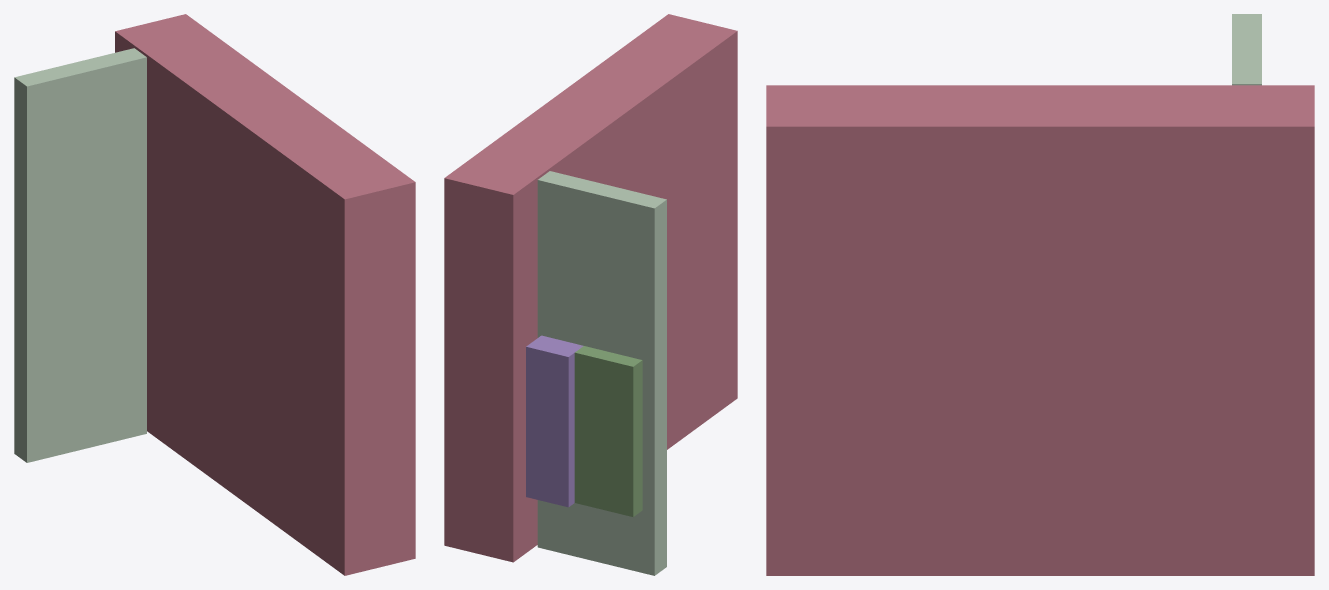
Rendered from 199538_pred.glb.
3 renders of one model, left to right at view 1: azimuth 30°, elevation 25°; view 2: azimuth 150°, elevation 25°; view 3: azimuth 270°, elevation 25°, orthographic. The views are drawn at different scales.
Parts seen in each view (by area): view 1: world; view 2: world; view 3: world.
Boxes of the visible parts, <box> form: world: <box>14,14,415,575</box>; world: <box>444,14,737,575</box>; world: <box>766,14,1314,575</box>.
Bounding box in the file's own units: 3.55 × 6.6 × 7.3.
